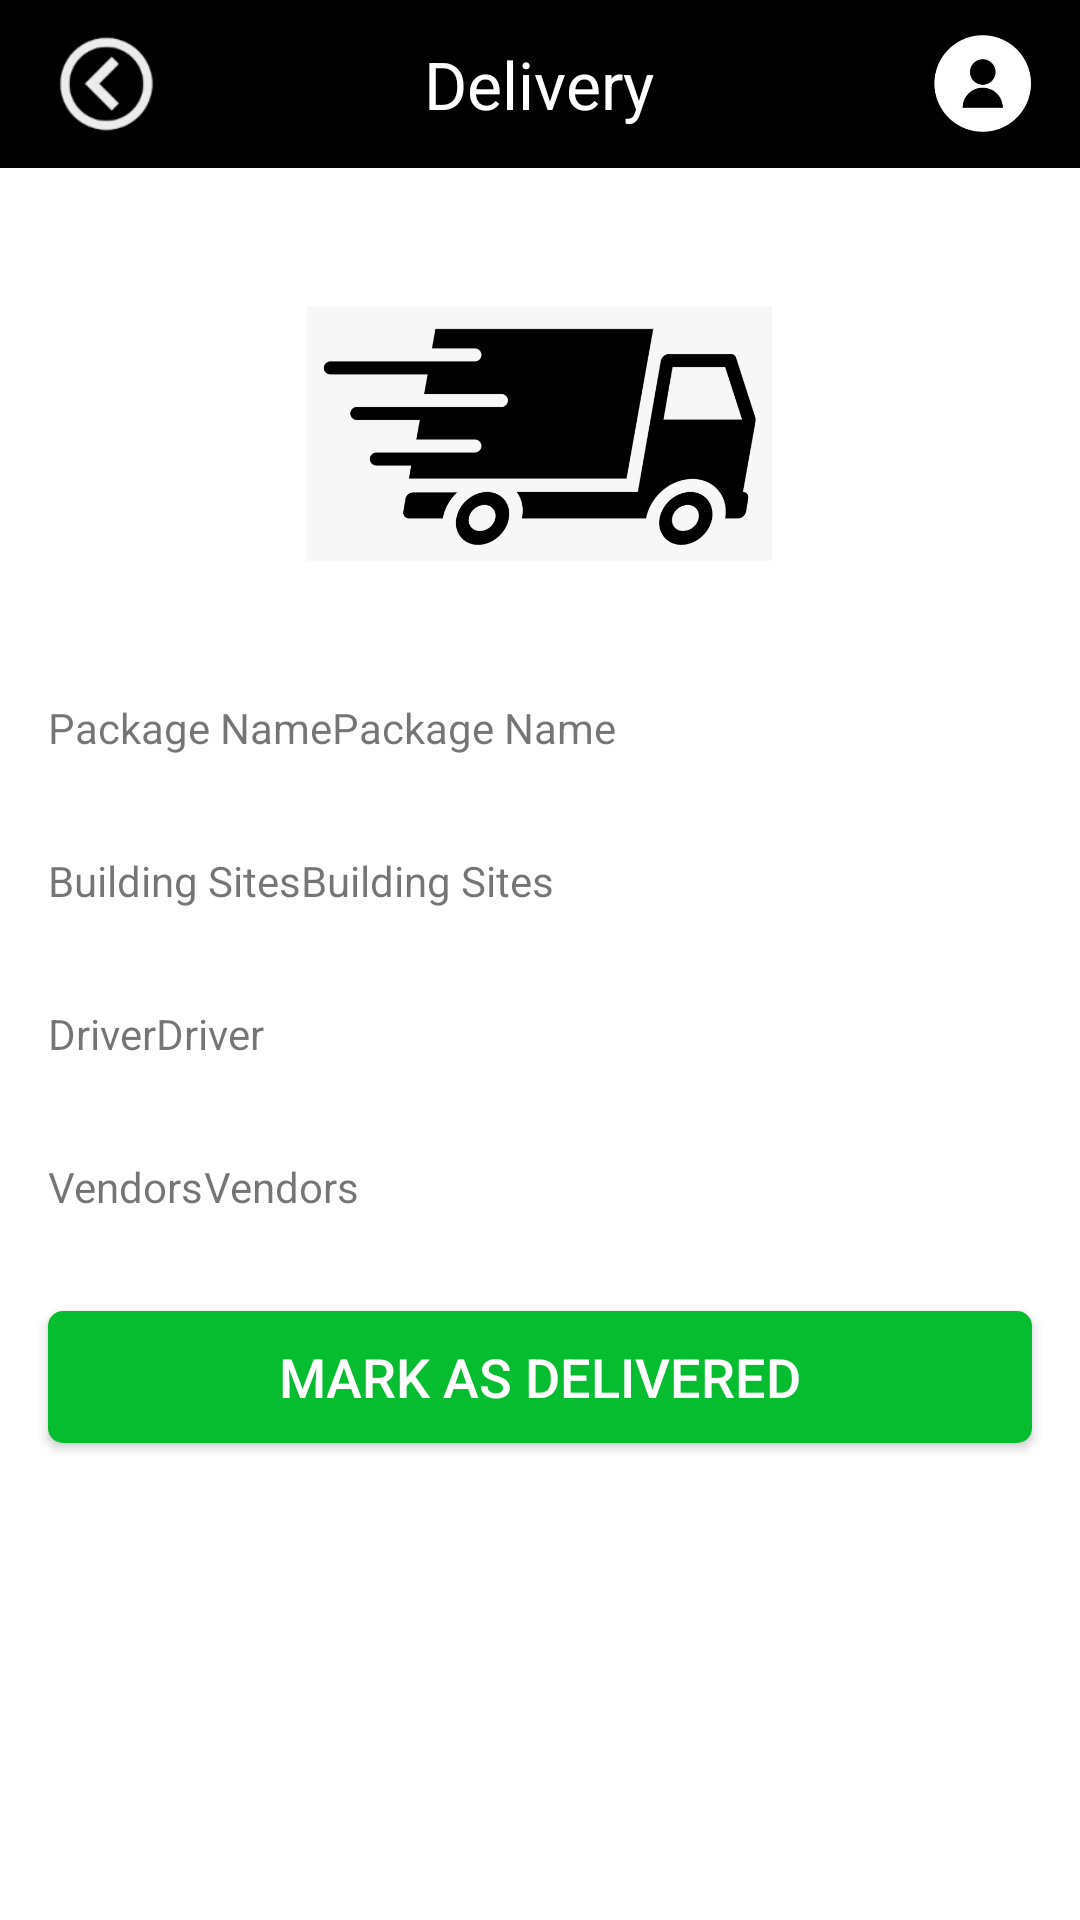

Icon bounding boxes for this 1080x1920 phone screenshot, format (x1, y1, x2, y2):
account: (934, 35, 1031, 132)
back: (60, 37, 153, 131)
